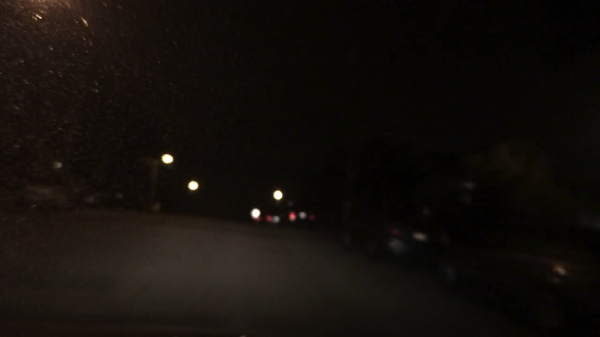car: (433, 200, 599, 337), (340, 199, 452, 268), (250, 200, 284, 227), (287, 203, 316, 228)
